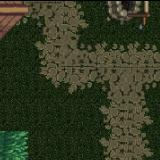Hide: (89, 0, 160, 42)
Slow: (0, 130, 28, 160)
